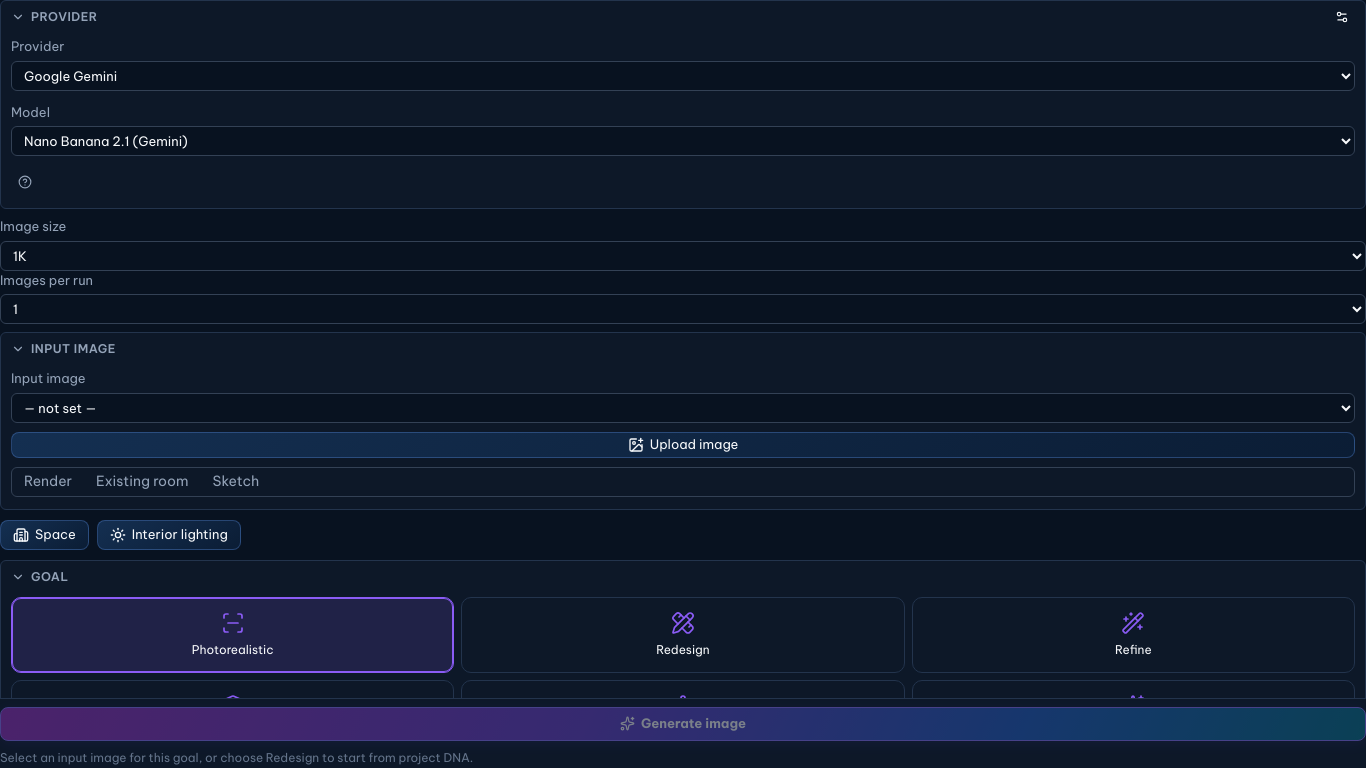
Test: Preset grid › hides exterior-only presets in an interior project
The image size is (1366, 768).
Click the button "Interior lighting". click: coordinates (169, 534)
box: [97,520,241,550]
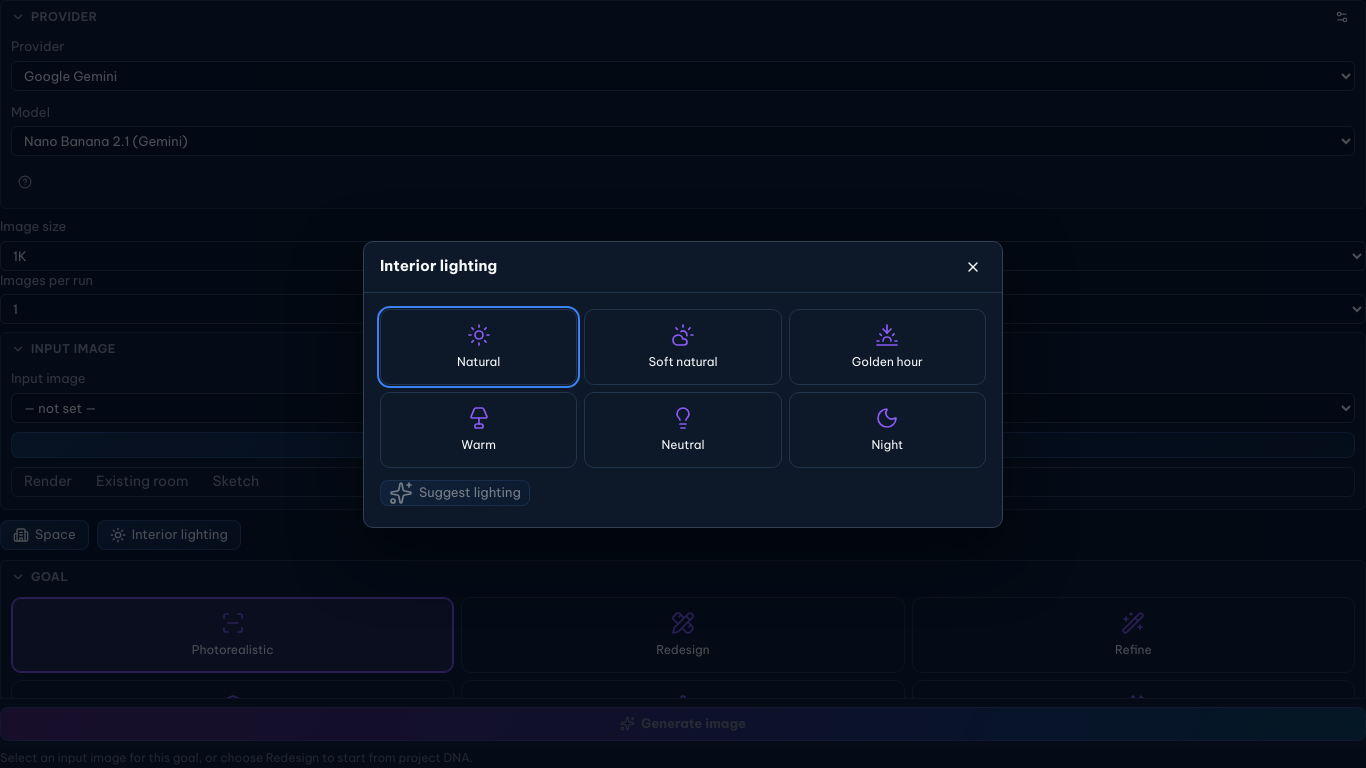
Expected: the button "Golden hour" is shown, [789,308,986,384]
